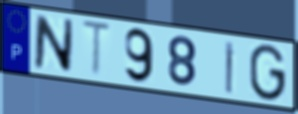8: (167, 34, 199, 88)
9: (124, 26, 157, 85)
G: (247, 43, 288, 104)
I: (224, 39, 236, 96)
N: (32, 13, 76, 75)
T: (79, 18, 114, 81)
